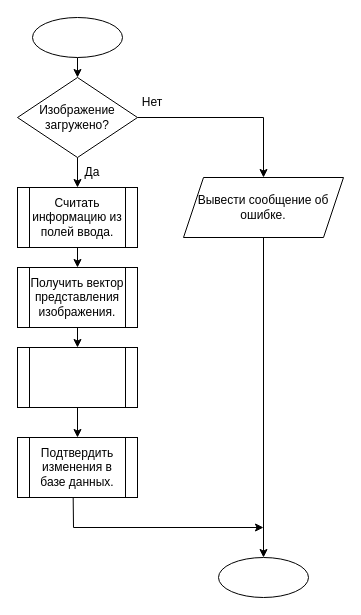
This 361x615 diagram has some shape labels left out. Here are the shapes that lost their labels. From the top down, the box of each, then its label:
(32, 16, 122, 58): Начало
(16, 346, 138, 408): Создать новую запись в базе данных.
(218, 556, 308, 598): Конец
